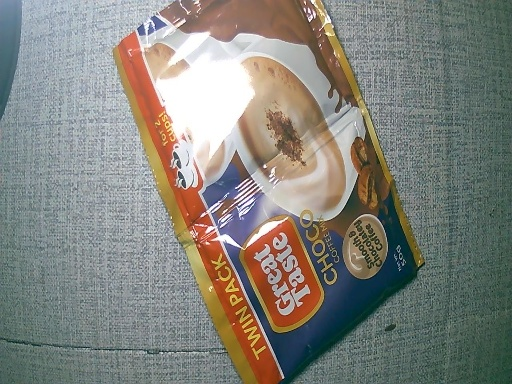plastic: (109, 1, 424, 384)
